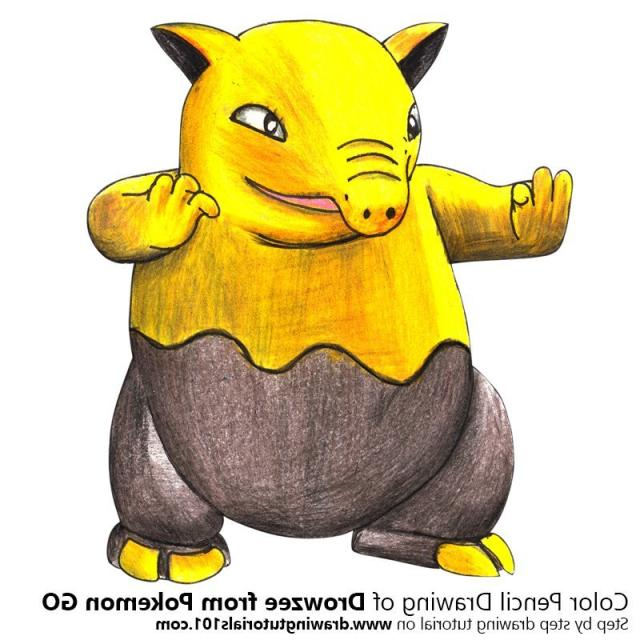Drowzee: (104, 20, 512, 592)
